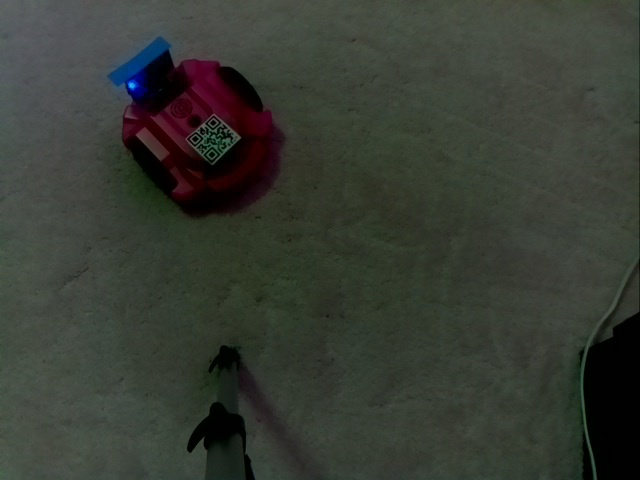chassis: (103, 31, 288, 206)
qr: (181, 112, 245, 166)
